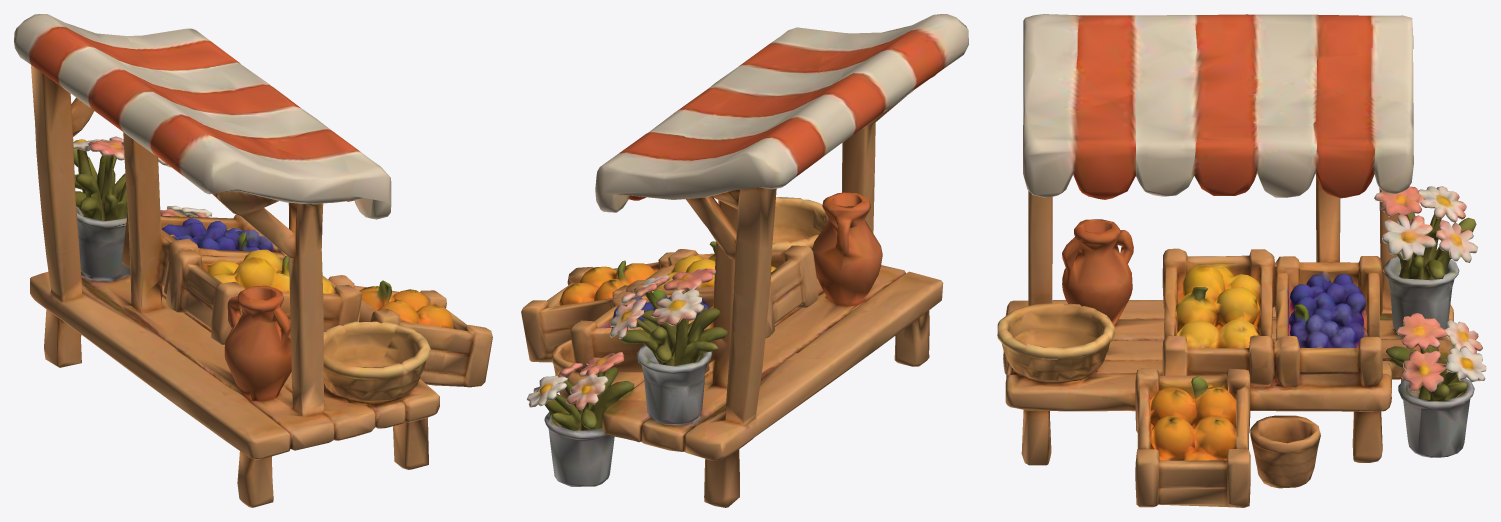
Rendered from stall.glb.
The picture shows the model from 3 angles, left to right: view 1: azimuth 30°, elevation 25°; view 2: azimuth 150°, elevation 25°; view 3: azimuth 270°, elevation 25°; orthographic projection.
Visible parts, largest first — view 1: tripo_node_0a224767-75c0-4c25-9811-166ec982c720; view 2: tripo_node_0a224767-75c0-4c25-9811-166ec982c720; view 3: tripo_node_0a224767-75c0-4c25-9811-166ec982c720.
Part boxes in pixels (x1=…): tripo_node_0a224767-75c0-4c25-9811-166ec982c720: x1=14, y1=14, x2=492, y2=507; tripo_node_0a224767-75c0-4c25-9811-166ec982c720: x1=521, y1=14, x2=968, y2=507; tripo_node_0a224767-75c0-4c25-9811-166ec982c720: x1=997, y1=14, x2=1486, y2=507.
Bounding box in the file's own units: 0.7983 × 0.7948 × 0.996.
1 material, 1 textured.
